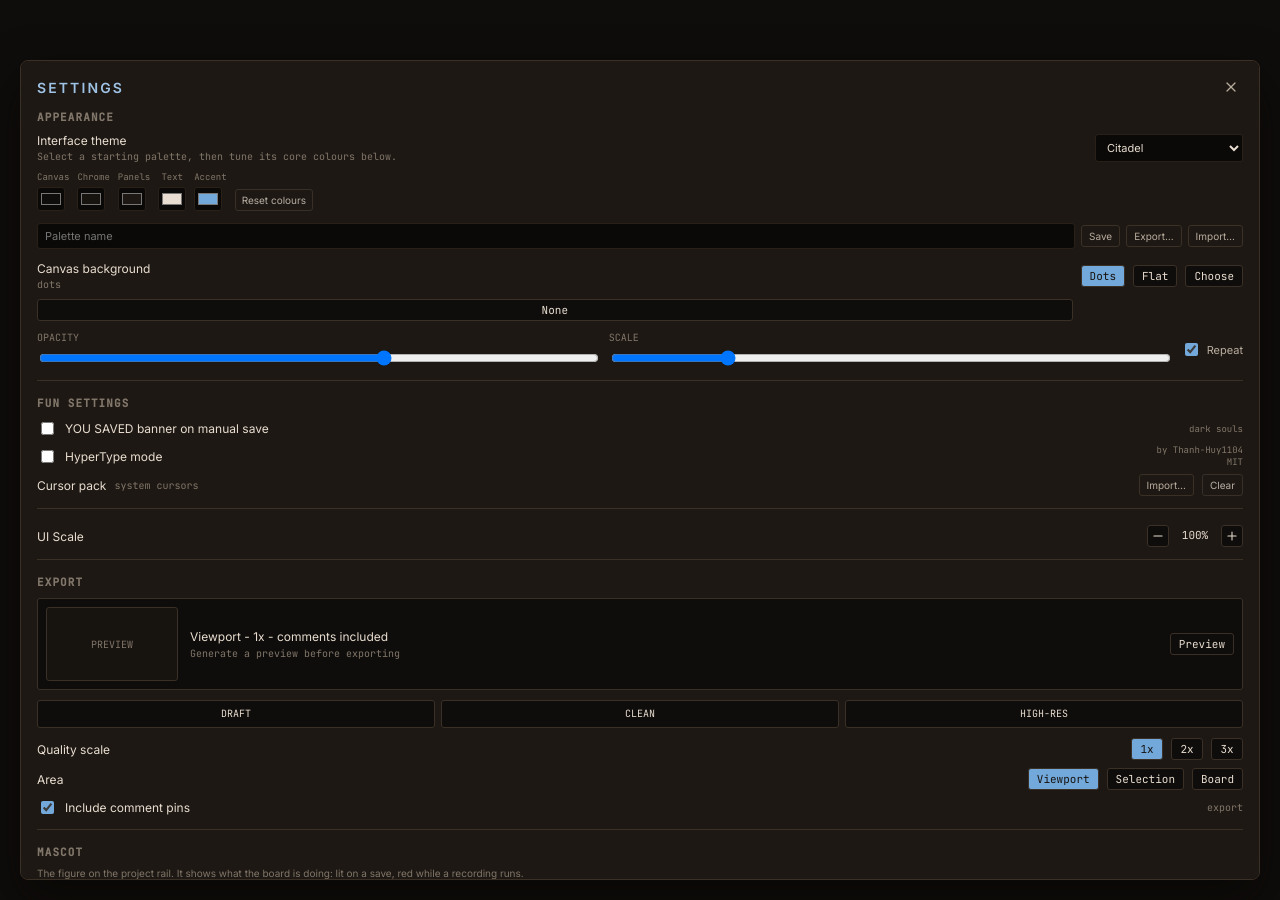
importing a cursor pack › applies a valid pack and names it
Click the button "Import…" in the row of "system cursors" at (1166, 485), box [1138, 474, 1194, 496]
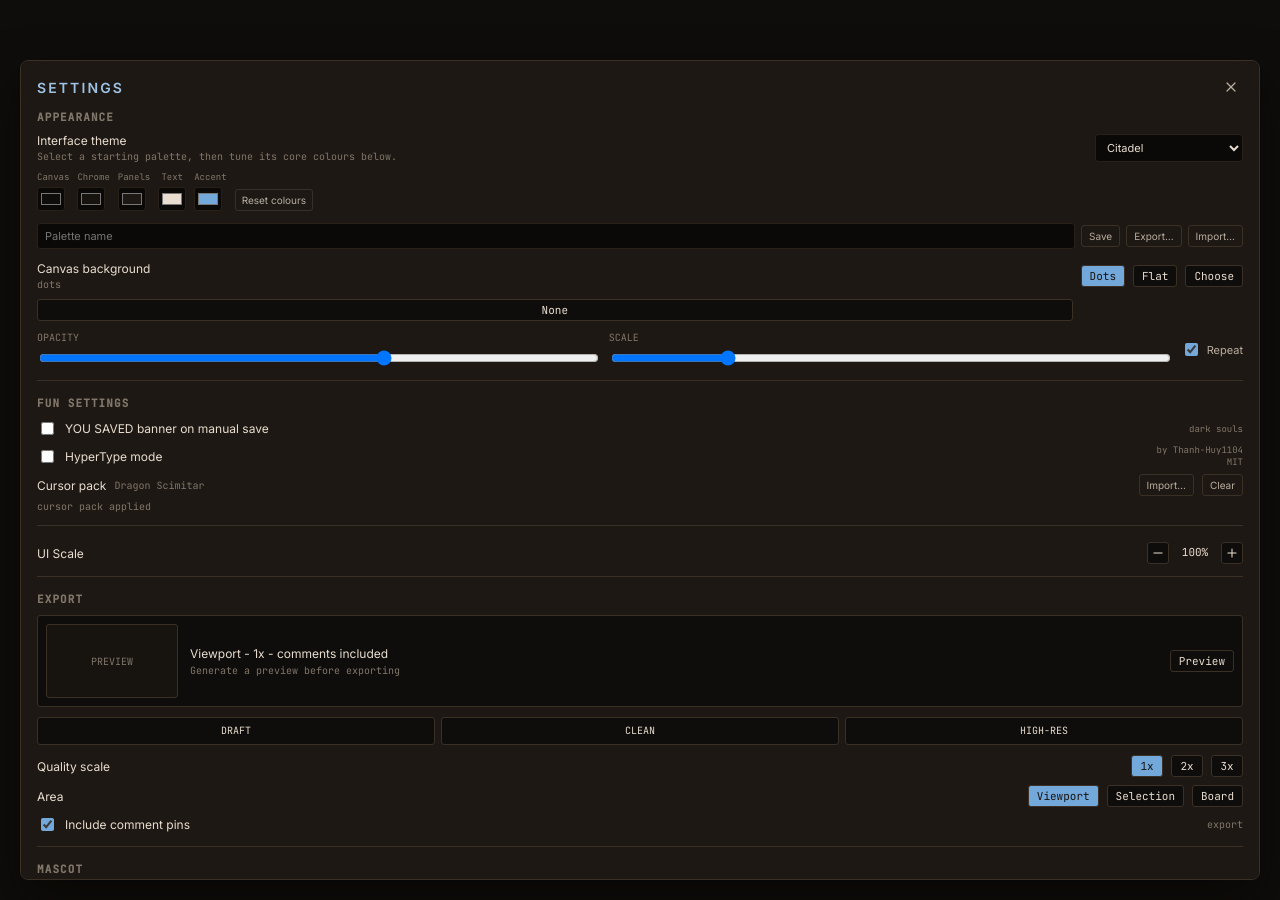
Now the text "Dragon Scimitar" is shown, box [114, 478, 204, 492]
Now the text "cursor pack applied" is shown, box [37, 500, 151, 513]
